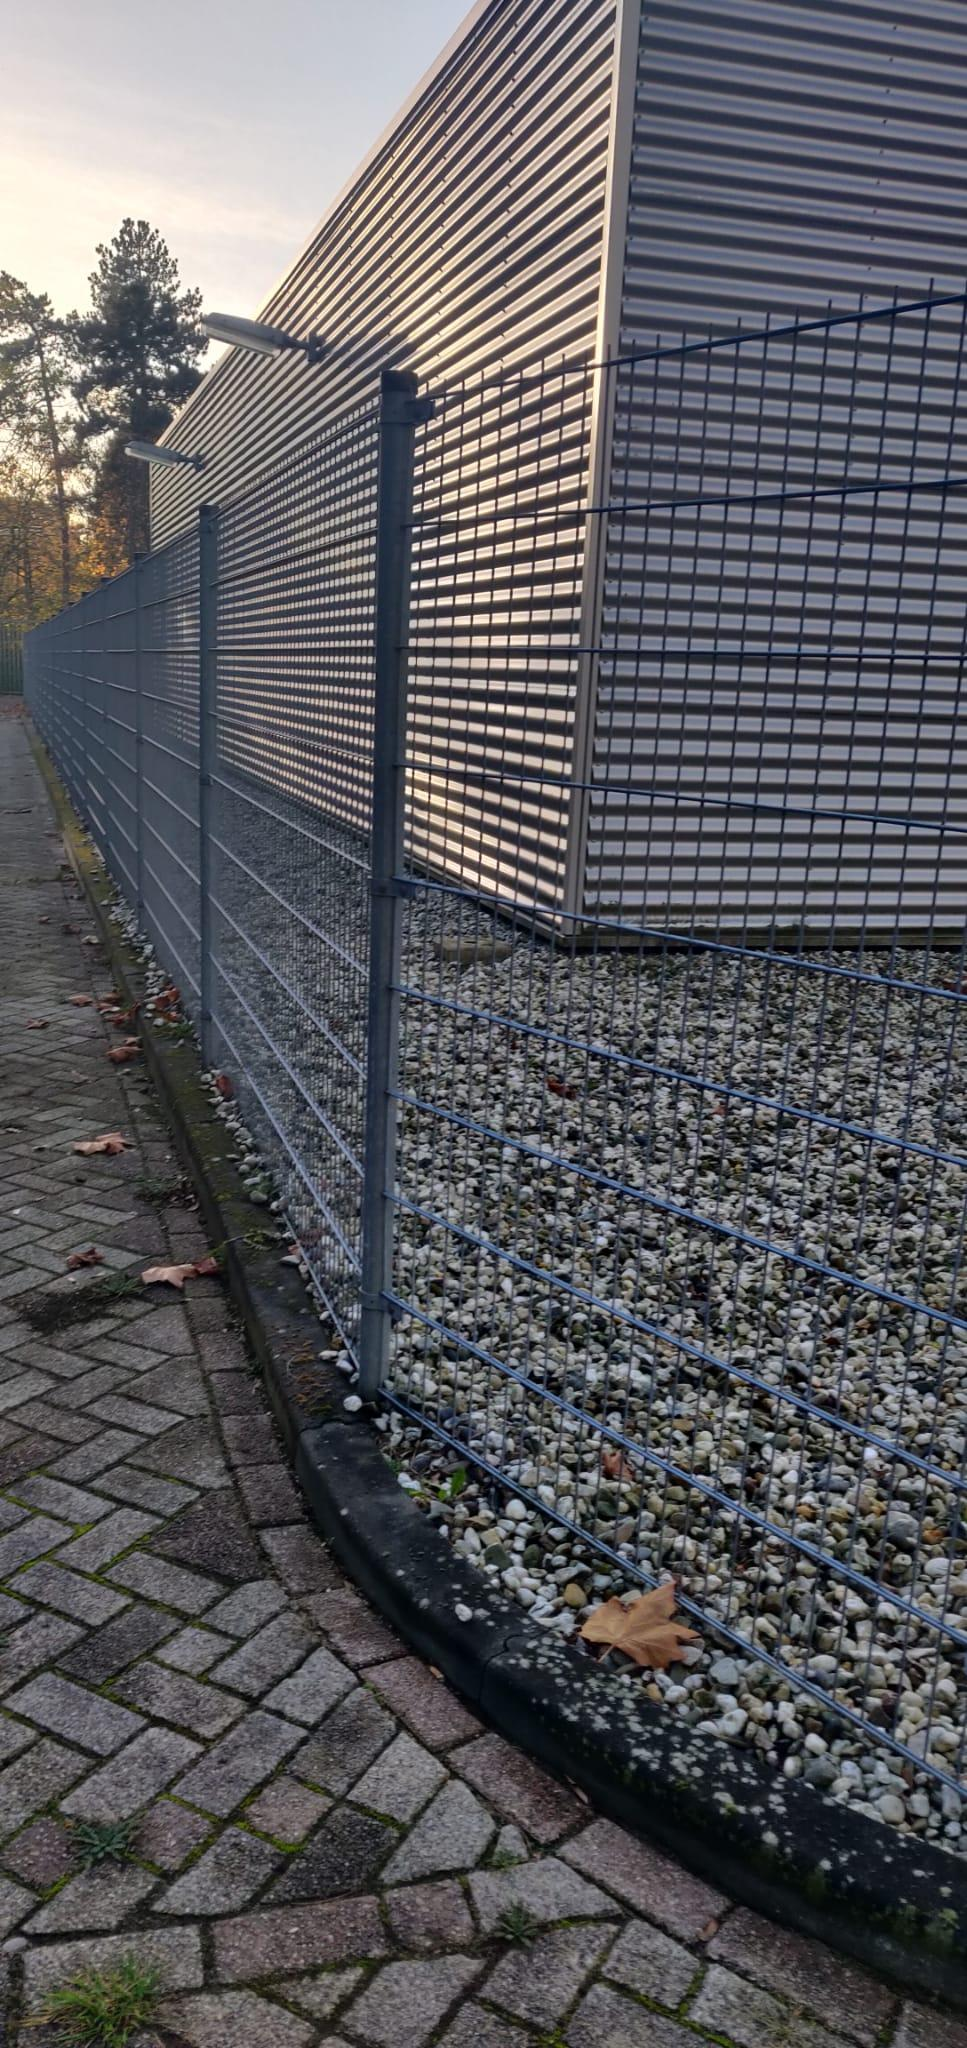obstacle: (30, 522, 967, 1665)
